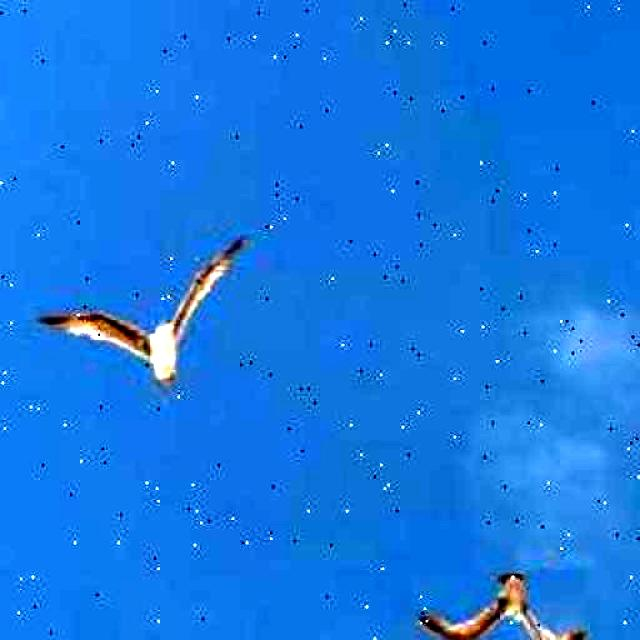airplane: (29, 229, 255, 401), (410, 568, 592, 640)
